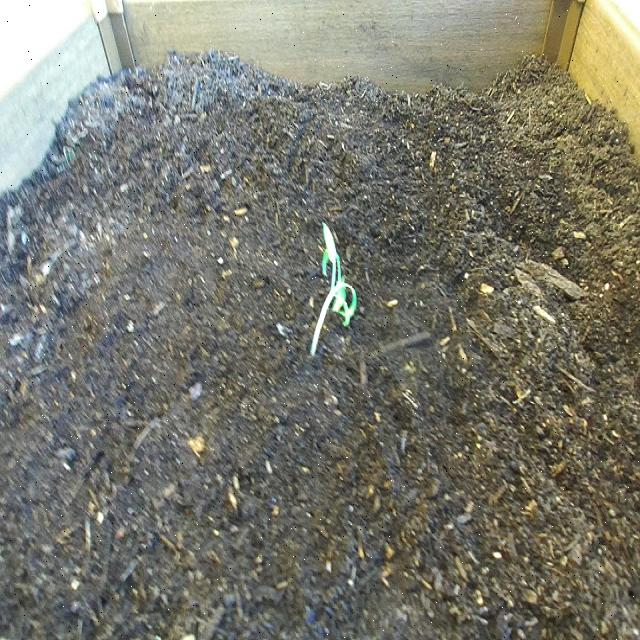Healthy: (304, 208, 368, 375)
